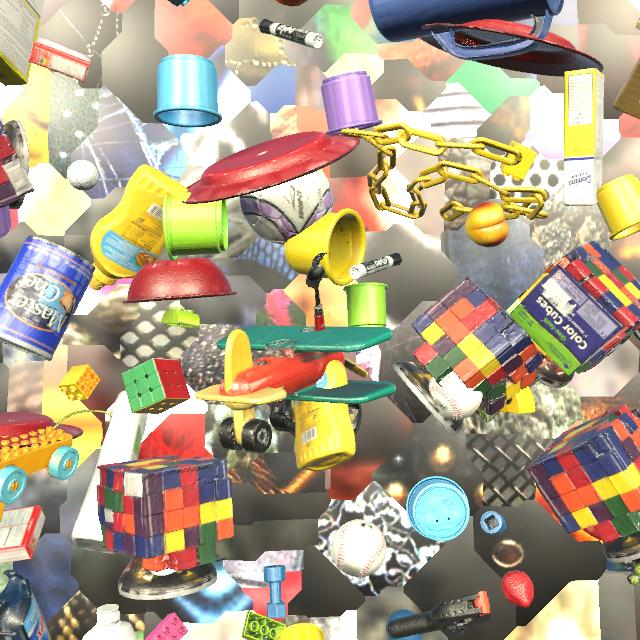ycb_002_master_chef_can: (0, 235, 96, 361)
ycb_004_sugar_box: (564, 68, 604, 206), (0, 0, 44, 86)
ycb_006_mustard_bottle: (89, 165, 188, 290), (293, 360, 356, 472)
ycb_007_tuna_fish_can: (634, 302, 640, 341)
ycb_009_gelatin_box: (29, 36, 91, 83), (0, 505, 46, 563)
ycb_012_strawberry: (501, 570, 534, 607)
ycb_015_peach: (465, 202, 509, 247)
